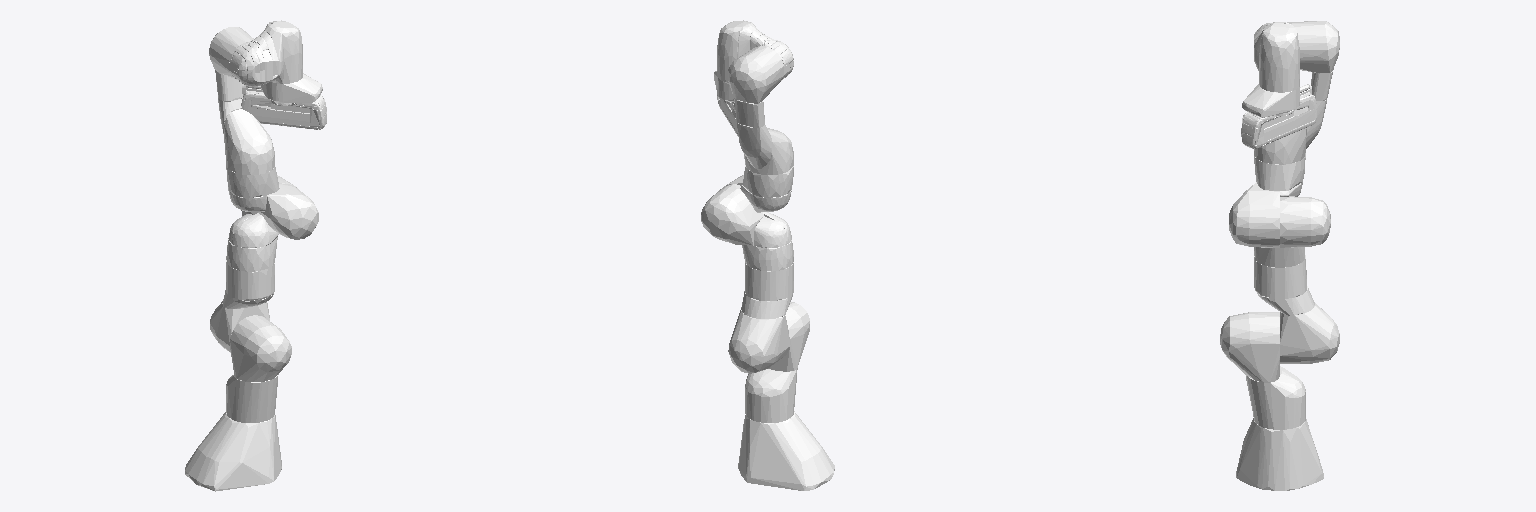
robot.urdf — panda:
<?xml version="1.0" ?>
<!-- =================================================================================== -->
<!-- |    This document was autogenerated by xacro from panda_arm_hand.urdf.xacro      | -->
<!-- |    EDITING THIS FILE BY HAND IS NOT RECOMMENDED                                 | -->
<!-- =================================================================================== -->
<robot name="panda" xmlns:xacro="http://www.ros.org/wiki/xacro">
  <link name="panda_link0">
  	<inertial>
      <origin rpy="0 0 0" xyz="0 0 0.05"/>
       <mass value="2.9"/>
       <inertia ixx="0.1" ixy="0" ixz="0" iyy="0.1" iyz="0" izz="0.1"/>
    </inertial>
    <visual>
      <geometry>
        <mesh filename="package://meshes/visual/link0.obj"/>
      </geometry>
      <material name="panda_white">
    		<color rgba="1. 1. 1. 1."/>
  		</material>
    </visual>
    <collision>
      <geometry>
        <mesh filename="package://meshes/collision/link0.obj"/>
      </geometry>
      <material name="panda_white"/>
    </collision>
  </link>
  <link name="panda_link1">
  	<inertial>
      <origin rpy="0 0 0" xyz="0 -0.04 -0.05"/>
       <mass value="2.7"/>
       <inertia ixx="0.1" ixy="0" ixz="0" iyy="0.1" iyz="0" izz="0.1"/>
    </inertial>
    <visual>
      <geometry>
        <mesh filename="package://meshes/visual/link1.obj"/>
      </geometry>
      <material name="panda_white"/>
    </visual>
    <collision>
      <geometry>
        <mesh filename="package://meshes/collision/link1.obj"/>
      </geometry>
      <material name="panda_white"/>
    </collision>
  </link>
  <joint name="panda_joint1" type="revolute">
    <safety_controller k_position="100.0" k_velocity="40.0" soft_lower_limit="-2.8973" soft_upper_limit="2.8973"/>
    <origin rpy="0 0 0" xyz="0 0 0.333"/>
    <parent link="panda_link0"/>
    <child link="panda_link1"/>
    <axis xyz="0 0 1"/>
    <limit effort="87" lower="-2.9671" upper="2.9671" velocity="2.1750"/>
  </joint>
  <link name="panda_link2">
  	<inertial>
      <origin rpy="0 0 0" xyz="0 -0.04 0.06"/>
       <mass value="2.73"/>
       <inertia ixx="0.1" ixy="0" ixz="0" iyy="0.1" iyz="0" izz="0.1"/>
    </inertial>
    <visual>
      <geometry>
        <mesh filename="package://meshes/visual/link2.obj"/>
      </geometry>
      <material name="panda_white"/>
    </visual>
    <collision>
      <geometry>
        <mesh filename="package://meshes/collision/link2.obj"/>
      </geometry>
      <material name="panda_white"/>
    </collision>
  </link>
  <joint name="panda_joint2" type="revolute">
    <safety_controller k_position="100.0" k_velocity="40.0" soft_lower_limit="-1.7628" soft_upper_limit="1.7628"/>
    <origin rpy="-1.57079632679 0 0" xyz="0 0 0"/>
    <parent link="panda_link1"/>
    <child link="panda_link2"/>
    <axis xyz="0 0 1"/>
    <limit effort="87" lower="-1.8326" upper="1.8326" velocity="2.1750"/>
  </joint>
  <link name="panda_link3">
	  <inertial>
      <origin rpy="0 0 0" xyz="0.01 0.01 -0.05"/>
       <mass value="2.04"/>
       <inertia ixx="0.1" ixy="0" ixz="0" iyy="0.1" iyz="0" izz="0.1"/>
    </inertial>
    <visual>
      <geometry>
        <mesh filename="package://meshes/visual/link3.obj"/>
      </geometry>
      <material name="panda_red">
    		<color rgba="1. 1. 1. 1."/>
  		</material>
    </visual>
    <collision>
      <geometry>
        <mesh filename="package://meshes/collision/link3.obj"/>
      </geometry>
    </collision>
  </link>
  <joint name="panda_joint3" type="revolute">
    <safety_controller k_position="100.0" k_velocity="40.0" soft_lower_limit="-2.8973" soft_upper_limit="2.8973"/>
    <origin rpy="1.57079632679 0 0" xyz="0 -0.316 0"/>
    <parent link="panda_link2"/>
    <child link="panda_link3"/>
    <axis xyz="0 0 1"/>
    <limit effort="87" lower="-2.9671" upper="2.9671" velocity="2.1750"/>
  </joint>
  <link name="panda_link4">
  	<inertial>
      <origin rpy="0 0 0" xyz="-0.03 0.03 0.02"/>
       <mass value="2.08"/>
       <inertia ixx="0.1" ixy="0" ixz="0" iyy="0.1" iyz="0" izz="0.1"/>
    </inertial>
    <visual>
      <geometry>
        <mesh filename="package://meshes/visual/link4.obj"/>
      </geometry>
      <material name="panda_white"/>
    </visual>
    <collision>
      <geometry>
        <mesh filename="package://meshes/collision/link4.obj"/>
      </geometry>
      <material name="panda_white"/>
    </collision>
  </link>
  <joint name="panda_joint4" type="revolute">
    <safety_controller k_position="100.0" k_velocity="40.0" soft_lower_limit="-3.0718" soft_upper_limit="-0.0698"/>
    <origin rpy="1.57079632679 0 0" xyz="0.0825 0 0"/>
    <parent link="panda_link3"/>
    <child link="panda_link4"/>
    <axis xyz="0 0 1"/>
    <limit effort="87" lower="-3.1416" upper="0.0" velocity="2.1750"/>
  </joint>
  <link name="panda_link5">
  	<inertial>
      <origin rpy="0 0 0" xyz="0 0.04 -0.12"/>
       <mass value="3"/>
       <inertia ixx="0.1" ixy="0" ixz="0" iyy="0.1" iyz="0" izz="0.1"/>
    </inertial>
    <visual>
      <geometry>
        <mesh filename="package://meshes/visual/link5.obj"/>
      </geometry>
      <material name="panda_white"/>
    </visual>
    <collision>
      <geometry>
        <mesh filename="package://meshes/collision/link5.obj"/>
      </geometry>
      <material name="panda_white"/>
    </collision>
  </link>
  <joint name="panda_joint5" type="revolute">
    <safety_controller k_position="100.0" k_velocity="40.0" soft_lower_limit="-2.8973" soft_upper_limit="2.8973"/>
    <origin rpy="-1.57079632679 0 0" xyz="-0.0825 0.384 0"/>
    <parent link="panda_link4"/>
    <child link="panda_link5"/>
    <axis xyz="0 0 1"/>
    <limit effort="12" lower="-2.9671" upper="2.9671" velocity="2.6100"/>
  </joint>
  <link name="panda_link6">
  	<inertial>
      <origin rpy="0 0 0" xyz="0.04 0 0"/>
       <mass value="1.3"/>
       <inertia ixx="0.1" ixy="0" ixz="0" iyy="0.1" iyz="0" izz="0.1"/>
    </inertial>
    <visual>
      <geometry>
        <mesh filename="package://meshes/visual/link6.obj"/>
      </geometry>
      <material name="panda_white"/>
    </visual>
    <collision>
      <geometry>
        <mesh filename="package://meshes/collision/link6.obj"/>
      </geometry>
      <material name="panda_white"/>
    </collision>
  </link>
  <joint name="panda_joint6" type="revolute">
    <safety_controller k_position="100.0" k_velocity="40.0" soft_lower_limit="-0.0175" soft_upper_limit="3.7525"/>
    <origin rpy="1.57079632679 0 0" xyz="0 0 0"/>
    <parent link="panda_link5"/>
    <child link="panda_link6"/>
    <axis xyz="0 0 1"/>
    <limit effort="12" lower="-0.0873" upper="3.8223" velocity="2.6100"/>
  </joint>
  <link name="panda_link7">
  	<inertial>
      <origin rpy="0 0 0" xyz="0 0 0.08"/>
       <mass value=".2"/>
       <inertia ixx="0.1" ixy="0" ixz="0" iyy="0.1" iyz="0" izz="0.1"/>
    </inertial>
    <visual>
      <geometry>
        <mesh filename="package://meshes/visual/link7.obj"/>
      </geometry>
      <material name="panda_white"/>
    </visual>
    <collision>
      <geometry>
        <mesh filename="package://meshes/collision/link7.obj"/>
      </geometry>
      <material name="panda_white"/>
    </collision>
  </link>
  <joint name="panda_joint7" type="revolute">
    <safety_controller k_position="100.0" k_velocity="40.0" soft_lower_limit="-2.8973" soft_upper_limit="2.8973"/>
    <origin rpy="1.57079632679 0 0" xyz="0.088 0 0"/>
    <parent link="panda_link6"/>
    <child link="panda_link7"/>
    <axis xyz="0 0 1"/>
    <limit effort="12" lower="-2.9671" upper="2.9671" velocity="2.6100"/>
  </joint>

  <joint name="panda_hand_joint" type="fixed">
    <parent link="panda_link7"/>
    <child link="panda_hand"/>
    <origin rpy="0 0 -0.785398163397" xyz="0 0 0.107"/>
  </joint>
  <link name="panda_hand">
  	<inertial>
      <origin rpy="0 0 0" xyz="0 0 0.04"/>
       <mass value=".81"/>
       <inertia ixx="0.1" ixy="0" ixz="0" iyy="0.1" iyz="0" izz="0.1"/>
    </inertial>
    <visual>
      <geometry>
        <mesh filename="package://meshes/visual/hand.obj"/>
      </geometry>
      <material name="panda_white"/>
    </visual>
    <collision>
      <geometry>
        <mesh filename="package://meshes/collision/hand.obj"/>
      </geometry>
      <material name="panda_white"/>
    </collision>
  </link>
  <link name="panda_leftfinger">
  	<inertial>
      <origin rpy="0 0 0" xyz="0 0.01 0.02"/>
       <mass value="0.1"/>
       <inertia ixx="0.1" ixy="0" ixz="0" iyy="0.1" iyz="0" izz="0.1"/>
    </inertial>
    <visual>
      <geometry>
        <mesh filename="package://meshes/visual/finger.obj"/>
      </geometry>
      <material name="panda_white"/>
    </visual>
    <collision>
      <geometry>
        <mesh filename="package://meshes/collision/finger.obj"/>
      </geometry>
      <material name="panda_white"/>
    </collision>
     <contact> <stiffness value="100"/> <damping value="10"/></contact>
  </link>
  <link name="panda_rightfinger">
  	<inertial>
      <origin rpy="0 0 0" xyz="0 -0.01 0.02"/>
       <mass value="0.1"/>
       <inertia ixx="0.1" ixy="0" ixz="0" iyy="0.1" iyz="0" izz="0.1"/>
    </inertial>
    <visual>
      <origin rpy="0 0 3.14159265359" xyz="0 0 0"/>
      <geometry>
        <mesh filename="package://meshes/visual/finger.obj"/>
      </geometry>
      <material name="panda_black"/>
    </visual>
    <collision>
      <origin rpy="0 0 3.14159265359" xyz="0 0 0"/>
      <geometry>
        <mesh filename="package://meshes/collision/finger.obj"/>
      </geometry>
      <material name="panda_white"/>
    </collision>
     <contact> <stiffness value="100"/> <damping value="10"/></contact>
  </link>
  <joint name="panda_finger_joint1" type="prismatic">
    <parent link="panda_hand"/>
    <child link="panda_leftfinger"/>
    <origin rpy="0 0 0" xyz="0 0 0.0584"/>
    <axis xyz="0 1 0"/>
    <limit effort="140" lower="0.0" upper="0.04" velocity="0.2"/>
  </joint>
  <joint name="panda_finger_joint2" type="prismatic">
    <parent link="panda_hand"/>
    <child link="panda_rightfinger"/>
    <origin rpy="0 0 0" xyz="0 0 0.0584"/>
    <axis xyz="0 -1 0"/>
    <limit effort="140" lower="0.0" upper="0.04" velocity="0.0002"/>
  </joint>
   <link name="panda_grasptarget">
 <inertial>
      <origin rpy="0 0 0" xyz="0 0 0"/>
       <mass value="0.0"/>
       <inertia ixx="0.1" ixy="0" ixz="0" iyy="0.1" iyz="0" izz="0.1"/>
    </inertial>
   </link>
   <joint name="panda_grasptarget_hand" type="fixed">
    <parent link="panda_hand"/>
    <child link="panda_grasptarget"/>
    <origin rpy="0 0 0" xyz="0 0 0.105"/>
  </joint>
  
</robot>

--- What the picture shows (computed from the rendered views, not written in the file) ---
The picture shows the robot from 3 angles, left to right: view 1: azimuth 30°, elevation 25°; view 2: azimuth 150°, elevation 25°; view 3: azimuth 270°, elevation 25°; orthographic projection.
Robot: panda — 12 links, 11 joints (7 revolute, 2 prismatic, 2 fixed); root link panda_link0; default pose: all joints at 0.
Visible links, largest first — view 1: panda_link0, panda_link1, panda_link5, panda_link4, panda_link6, panda_link2, panda_link3, panda_hand, panda_link7; view 2: panda_link0, panda_link5, panda_link2, panda_link3, panda_link1, panda_link6, panda_link4; view 3: panda_link1, panda_link2, panda_link0, panda_link4, panda_link5, panda_link3, panda_link6, panda_hand, panda_link7.
Boxes of the visible links, x1,y1,x2,y2 form: panda_link0: (185,412,281,491); panda_link1: (226,315,291,422); panda_link5: (209,27,274,174); panda_link4: (226,166,318,239); panda_link6: (229,20,302,86); panda_link2: (210,260,274,352); panda_link3: (226,175,296,271); panda_hand: (241,85,326,129); panda_link7: (261,73,322,102); panda_link0: (738,411,834,490); panda_link5: (728,46,793,174); panda_link2: (728,262,793,373); panda_link3: (701,184,793,271); panda_link1: (745,302,809,422); panda_link6: (717,20,793,82); panda_link4: (726,165,793,212); panda_link1: (1220,312,1305,429); panda_link2: (1254,255,1339,363); panda_link0: (1236,418,1323,490); panda_link4: (1229,153,1305,247); panda_link5: (1254,21,1339,164); panda_link3: (1254,196,1330,267); panda_link6: (1254,22,1299,92); panda_hand: (1241,84,1316,148); panda_link7: (1242,84,1299,117).
Bounding box of the posed robot: 0.3261 × 0.2605 × 1.12 m (x, y, z).
9 mesh visuals loaded from 10 distinct referenced files (9 OBJ); not drawn: 2 (reference not matched to a file when rendering).
